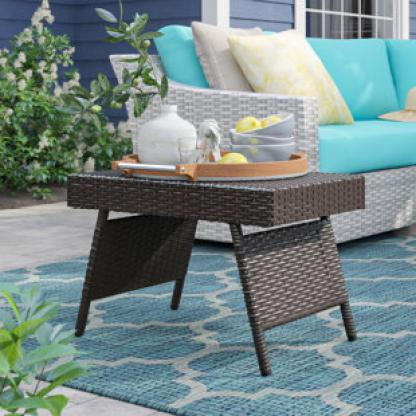table: (56, 149, 374, 378)
